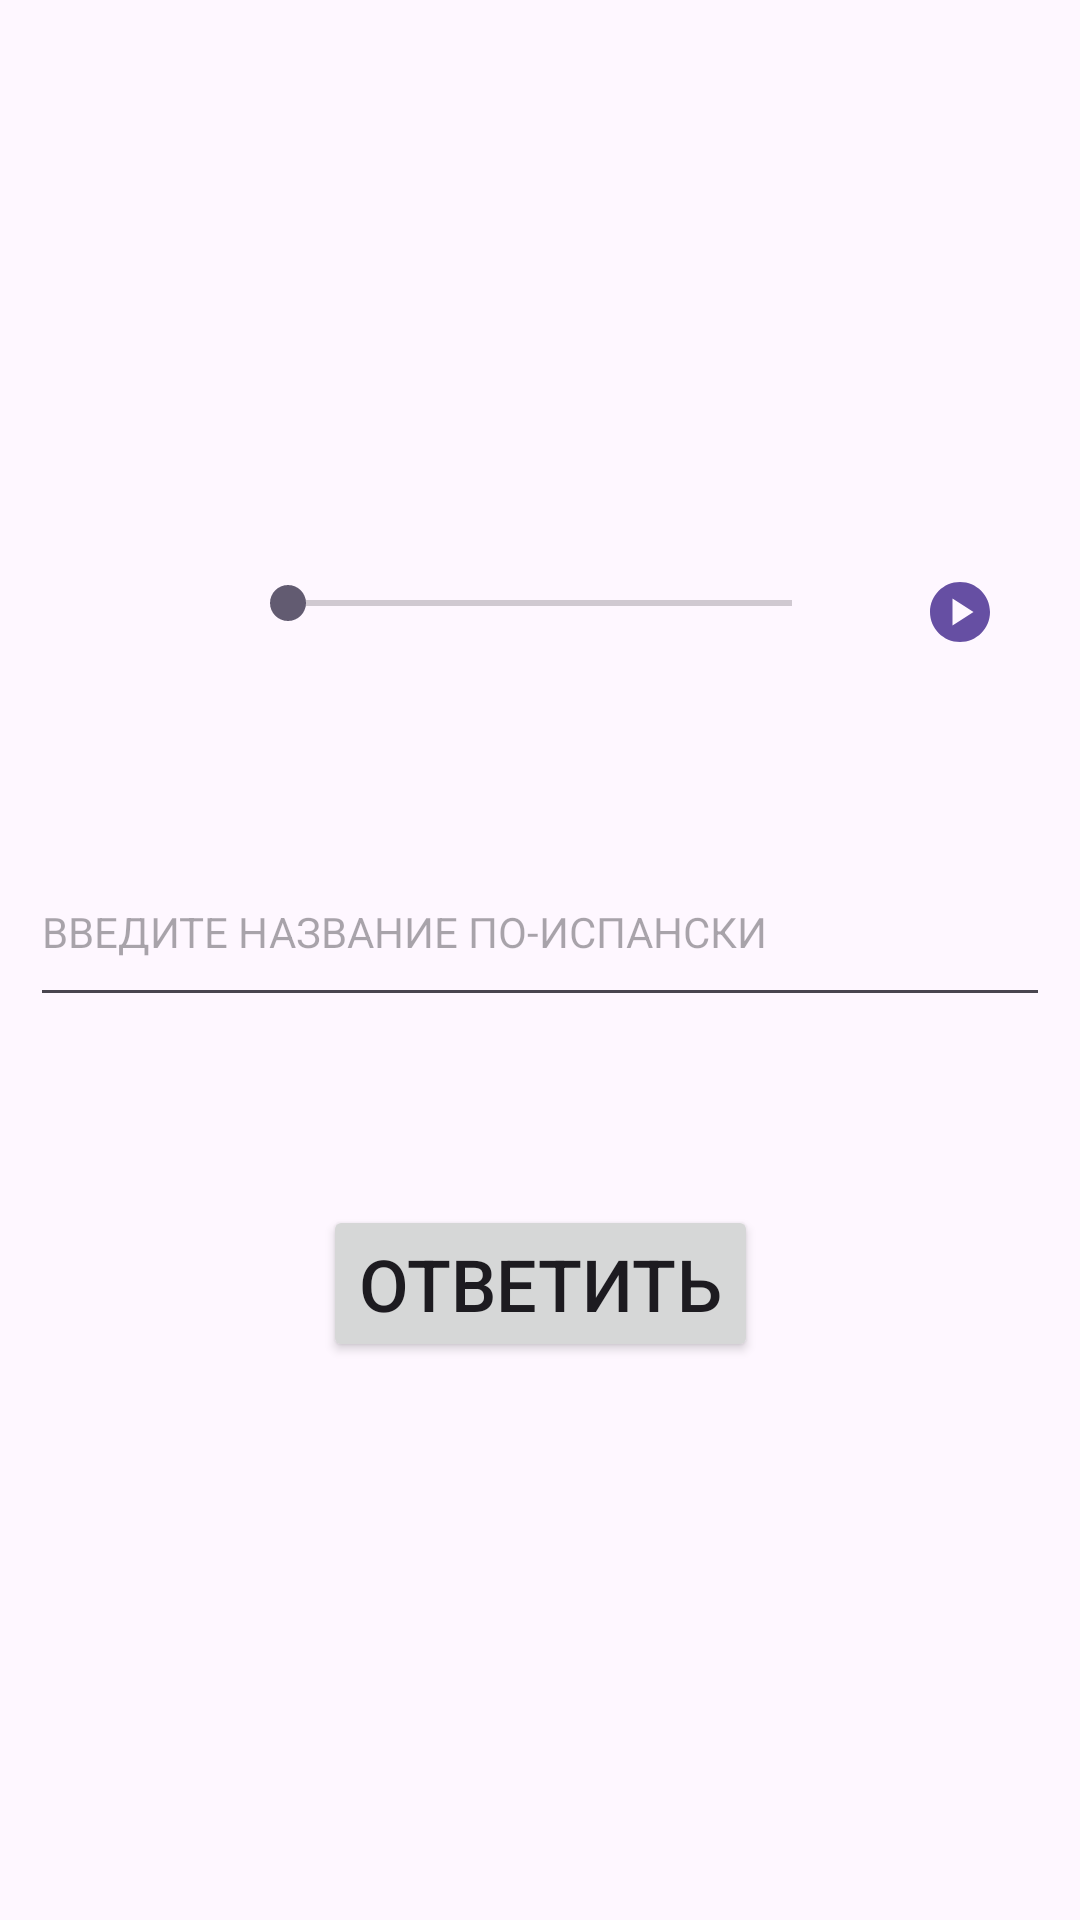

Locate icon controls on the screen. Image size 1080 x 1920, boxes as (x1,y1,x2,y2).
play circle: (930,582,990,642)
